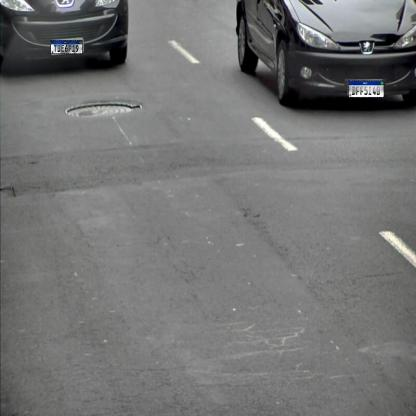PlacaM: (349, 80, 384, 98), (50, 40, 82, 54)
